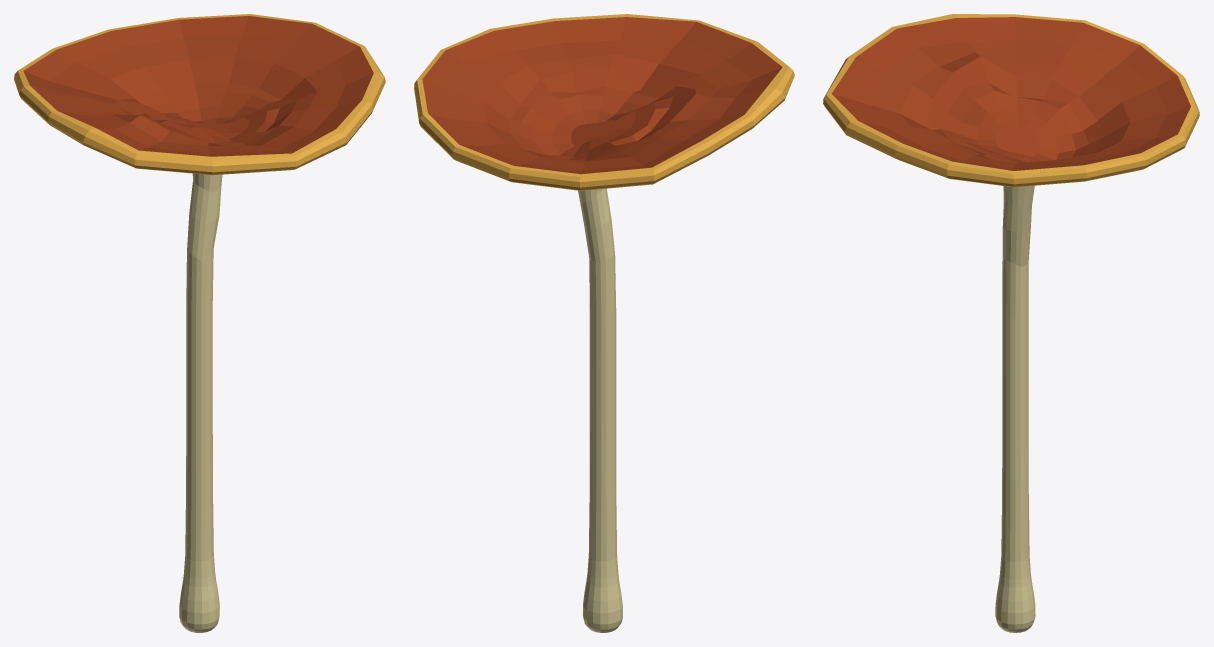
The model's file is mushroom 1.fbx.
3 renders of one model, left to right at view 1: azimuth 30°, elevation 25°; view 2: azimuth 150°, elevation 25°; view 3: azimuth 270°, elevation 25°, orthographic.
Parts seen in each view (by area): view 1: Cylinder.015; view 2: Cylinder.015; view 3: Cylinder.015.
Part boxes in pixels (x1,y1,x2,y2): Cylinder.015: (14, 14, 385, 632); Cylinder.015: (414, 14, 794, 632); Cylinder.015: (823, 14, 1199, 632).
Size of the model in its own units: 2225 by 3703 by 2317.
